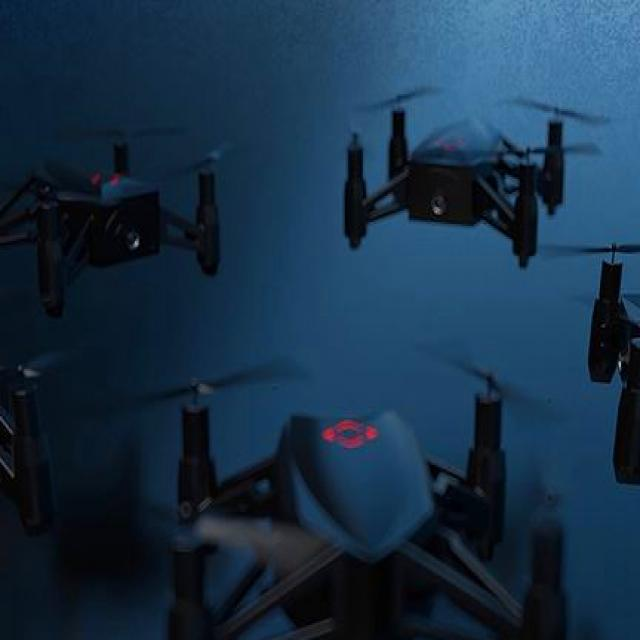drone: (124, 352, 596, 640), (313, 75, 591, 260), (0, 135, 284, 303), (543, 222, 640, 512), (0, 294, 79, 538)
